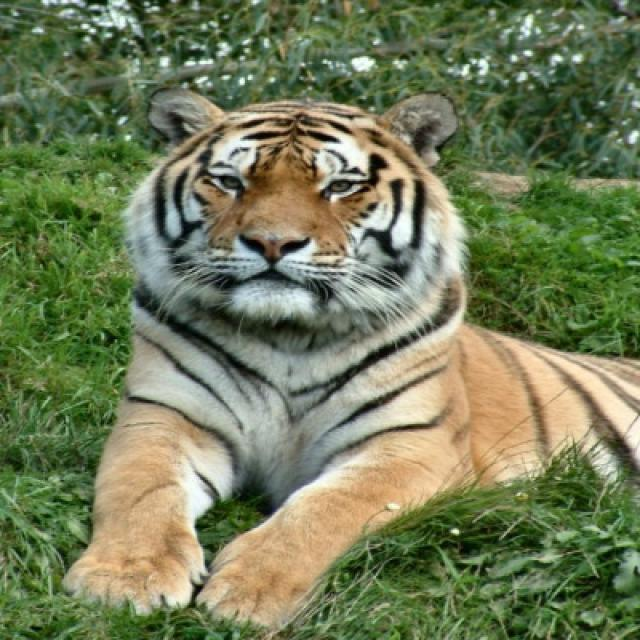Tiger: (58, 85, 638, 632)
